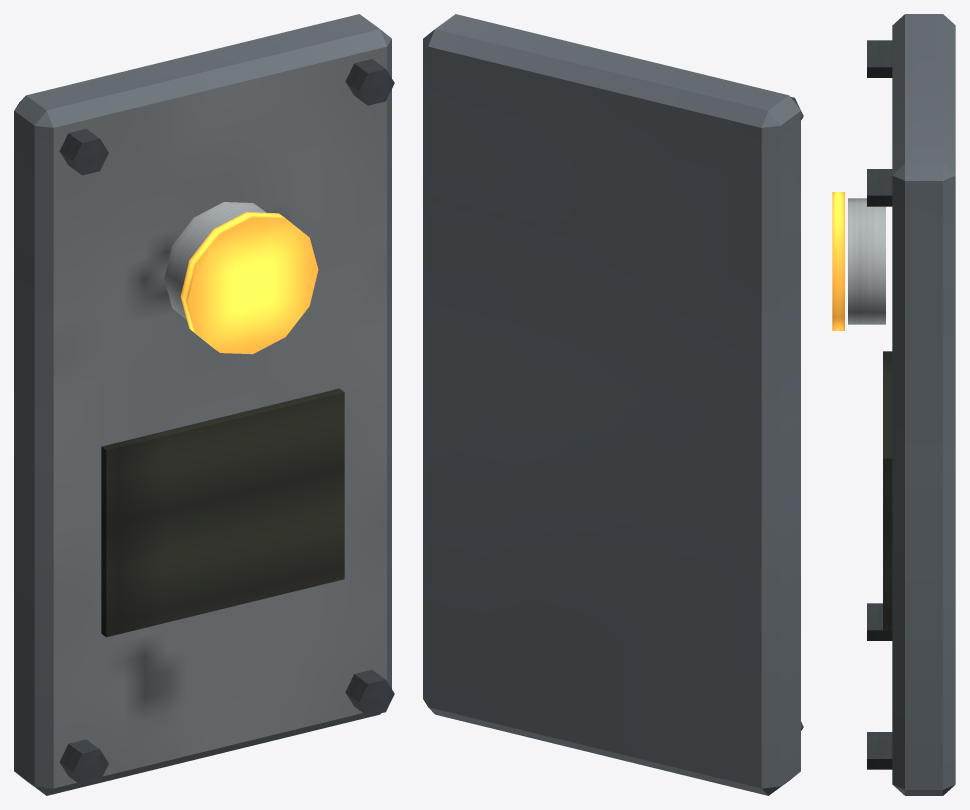
Rendered from cell_intercom.fbx.
3 renders of one model, left to right at view 1: azimuth 30°, elevation 25°; view 2: azimuth 150°, elevation 25°; view 3: azimuth 270°, elevation 25°, orthographic. The views are drawn at different scales.
Parts seen in each view (by area): view 1: cell_intercom, cell_intercom_lamp, cell_intercom_button; view 2: cell_intercom; view 3: cell_intercom, cell_intercom_button, cell_intercom_lamp.
Part boxes in pixels (box(x1,y1,x2,y2)): cell_intercom: box(14, 14, 394, 795); cell_intercom_lamp: box(180, 212, 318, 354); cell_intercom_button: box(164, 202, 266, 319); cell_intercom: box(423, 14, 803, 795); cell_intercom: box(867, 14, 955, 795); cell_intercom_button: box(848, 198, 885, 324); cell_intercom_lamp: box(832, 192, 844, 330).
Size of the model in its own units: 0.12 by 0.22 by 0.039.
1 material, 1 textured.
